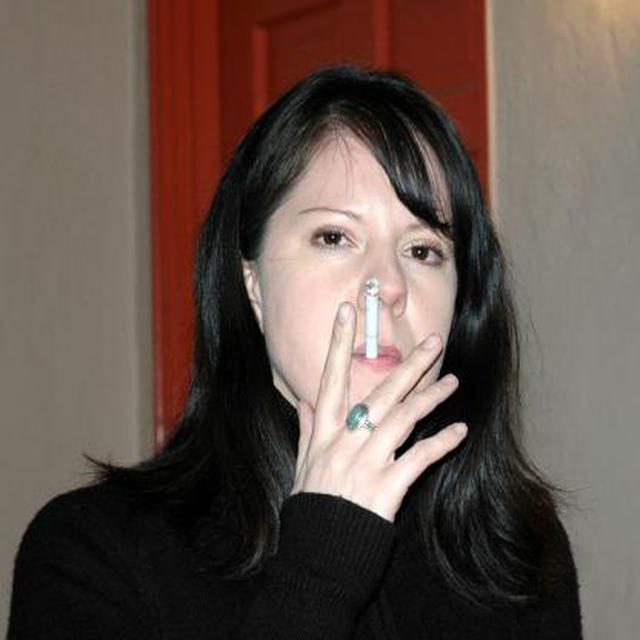smoking: (366, 279, 379, 367)
